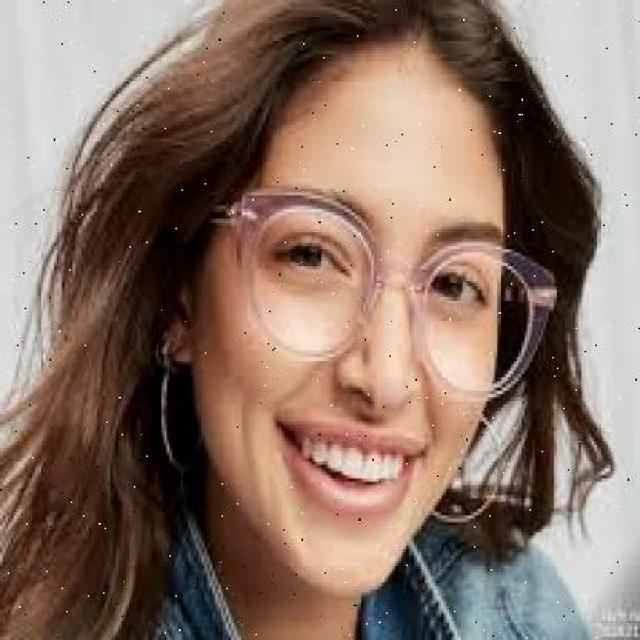glasses: (232, 166, 557, 412)
